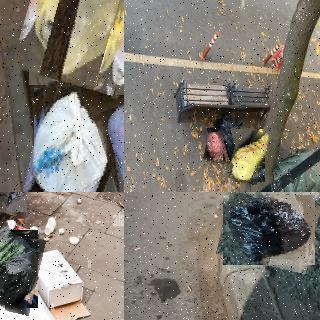Garbage: (27, 83, 124, 192), (20, 0, 124, 90), (219, 192, 318, 269), (0, 225, 42, 312), (230, 127, 268, 184), (216, 115, 244, 161), (205, 128, 225, 161)
